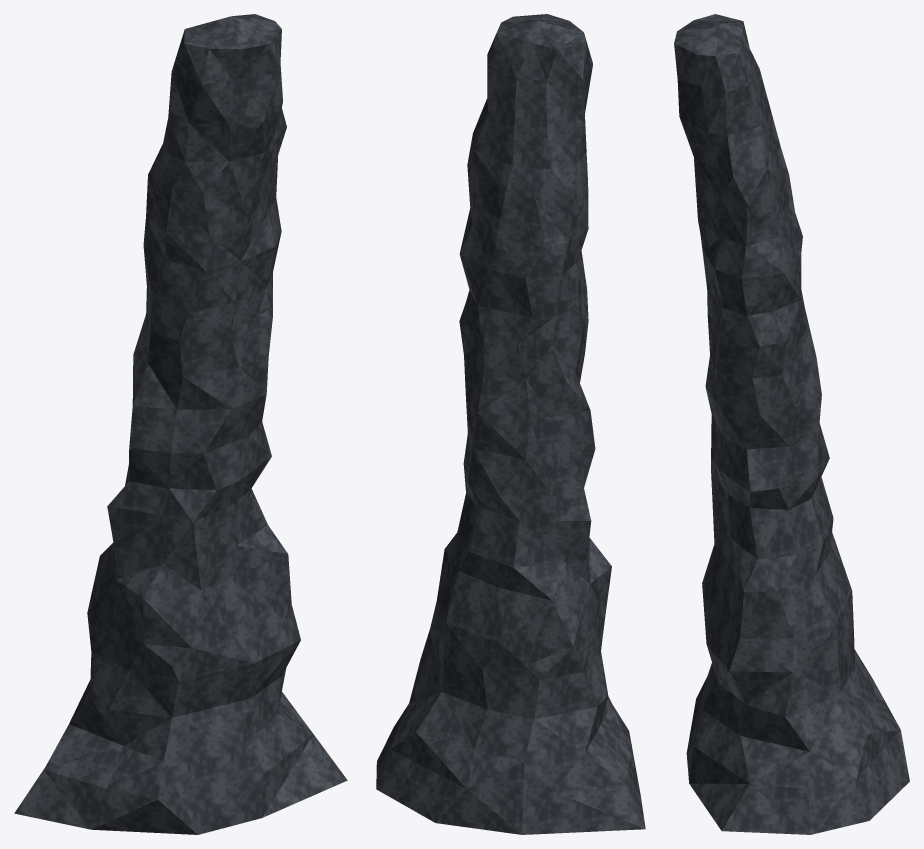
Rendered from rock_spire3_v1.fbx.
3 views of the same model, side by side, from view 1: azimuth 30°, elevation 25°; view 2: azimuth 150°, elevation 25°; view 3: azimuth 270°, elevation 25° (orthographic). The views are drawn at different scales.
Visible parts, largest first — view 1: rock_spire3_v1_s0_lod0, rock_spire3_v1_s5_lod0, rock_spire3_v1_s1_lod0, rock_spire3_v1_s3_lod0, rock_spire3_v1_s4_lod0, rock_spire3_v1_s2_lod0; view 2: rock_spire3_v1_s0_lod0, rock_spire3_v1_s5_lod0, rock_spire3_v1_s1_lod0, rock_spire3_v1_s3_lod0, rock_spire3_v1_s4_lod0, rock_spire3_v1_s2_lod0; view 3: rock_spire3_v1_s0_lod0, rock_spire3_v1_s5_lod0, rock_spire3_v1_s1_lod0, rock_spire3_v1_s3_lod0, rock_spire3_v1_s2_lod0, rock_spire3_v1_s4_lod0.
Part boxes in pixels (x1,y1,x2,y2): rock_spire3_v1_s0_lod0: (14,611,347,834); rock_spire3_v1_s5_lod0: (146,14,286,228); rock_spire3_v1_s1_lod0: (87,512,293,667); rock_spire3_v1_s3_lod0: (129,305,272,458); rock_spire3_v1_s4_lod0: (143,179,281,342); rock_spire3_v1_s2_lod0: (107,418,271,549); rock_spire3_v1_s0_lod0: (376,607,645,834); rock_spire3_v1_s5_lod0: (467,14,592,232); rock_spire3_v1_s1_lod0: (435,522,611,668); rock_spire3_v1_s3_lod0: (459,299,595,455); rock_spire3_v1_s4_lod0: (459,190,588,336); rock_spire3_v1_s2_lod0: (459,425,593,555); rock_spire3_v1_s0_lod0: (686,611,909,834); rock_spire3_v1_s5_lod0: (674,14,793,228); rock_spire3_v1_s1_lod0: (702,500,852,645); rock_spire3_v1_s3_lod0: (705,295,821,444); rock_spire3_v1_s2_lod0: (711,421,829,542); rock_spire3_v1_s4_lod0: (697,203,804,333).
Size of what is drawn, in the model's own units: 1393 by 3612 by 1026.
